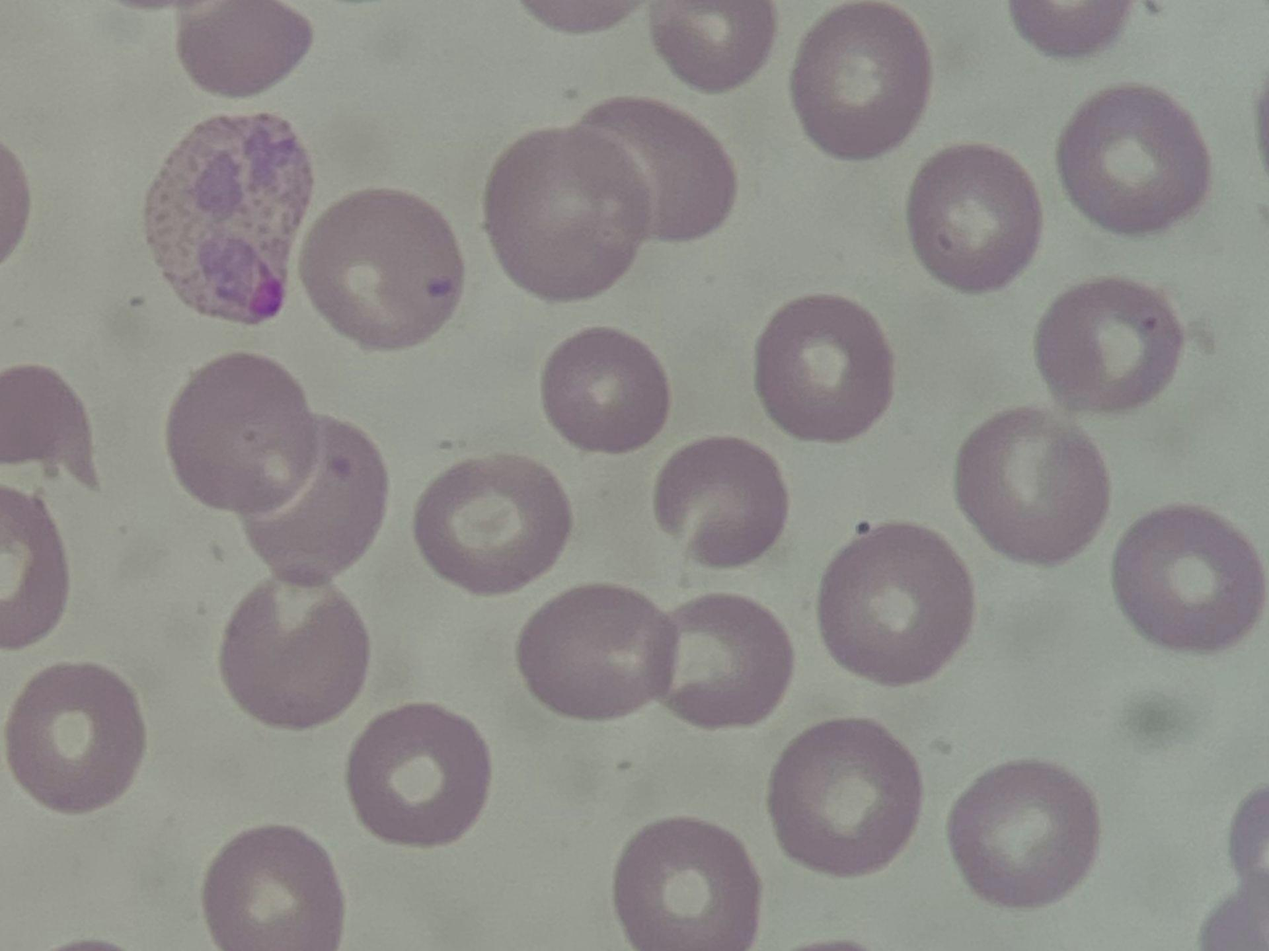Infected: (952, 625, 1126, 838)
Uninfected: (615, 652, 783, 822), (804, 600, 968, 758), (946, 437, 1104, 597), (295, 268, 451, 425), (349, 73, 501, 232), (159, 388, 313, 541), (879, 374, 1028, 531), (531, 710, 693, 852), (58, 716, 210, 865), (170, 43, 323, 187), (4, 297, 155, 441), (898, 222, 1046, 367), (698, 358, 852, 496), (337, 795, 477, 946), (1122, 136, 1261, 284), (594, 231, 748, 363), (374, 509, 513, 653), (86, 538, 233, 673), (779, 106, 921, 245), (227, 658, 361, 804), (510, 1, 651, 132), (476, 222, 610, 358), (480, 383, 615, 510), (927, 1, 1065, 122), (599, 496, 727, 621), (955, 853, 1091, 948), (492, 858, 617, 951)
